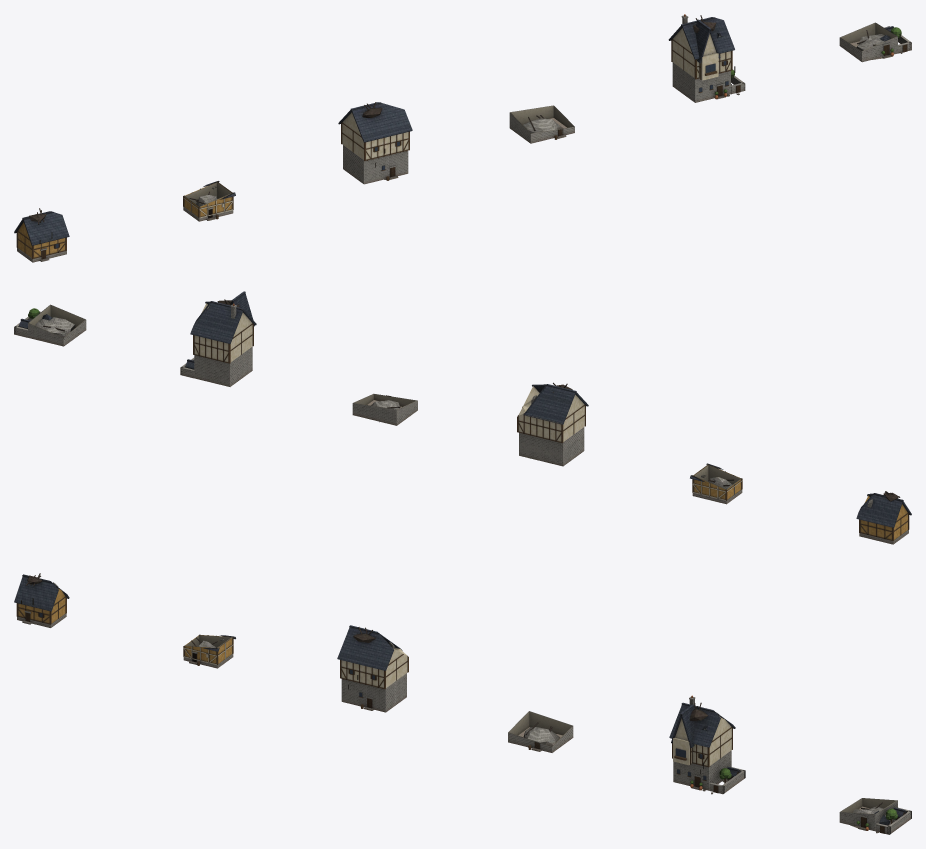
Rendered from kingdoms-europe-houses-damage.glb.
3 renders of one model, top to bottom at view 1: azimuth 30°, elevation 25°; view 2: azimuth 150°, elevation 25°; view 3: azimuth 330°, elevation 25°, orthographic.
Visible parts, largest first — view 1: LOD0.004, LOD0.002, LOD0, LOD0.005, LOD0.003, LOD0.001; view 2: LOD0.004, LOD0.002, LOD0, LOD0.005, LOD0.003, LOD0.001; view 3: LOD0.004, LOD0.002, LOD0, LOD0.005, LOD0.003, LOD0.001.
Boxes of the visible parts, <box> form: LOD0.004: <box>668,14,745,102</box>; LOD0.002: <box>338,102,412,184</box>; LOD0: <box>14,208,69,262</box>; LOD0.005: <box>839,22,911,62</box>; LOD0.003: <box>509,105,574,143</box>; LOD0.001: <box>183,181,235,221</box>; LOD0.004: <box>180,291,256,386</box>; LOD0.002: <box>517,382,588,466</box>; LOD0: <box>856,491,911,544</box>; LOD0.005: <box>14,304,86,346</box>; LOD0.003: <box>352,393,417,425</box>; LOD0.001: <box>690,463,742,504</box>; LOD0.004: <box>669,695,745,794</box>; LOD0.002: <box>337,625,408,712</box>; LOD0: <box>14,573,69,627</box>; LOD0.005: <box>839,798,911,834</box>; LOD0.003: <box>508,711,573,752</box>; LOD0.001: <box>183,634,235,668</box>.
Size of what is drawn, in the model's own units: 15.81 by 1.32 by 0.917.
Materials: 1 (1 with a texture image).
